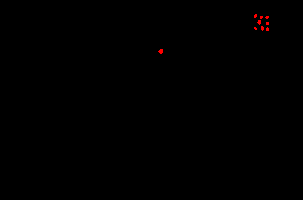Target: (158, 49, 163, 54), (257, 20, 261, 25), (261, 26, 264, 31), (254, 14, 257, 18), (265, 16, 269, 19), (266, 27, 269, 31), (260, 16, 263, 19), (266, 22, 269, 25), (254, 27, 257, 30)
